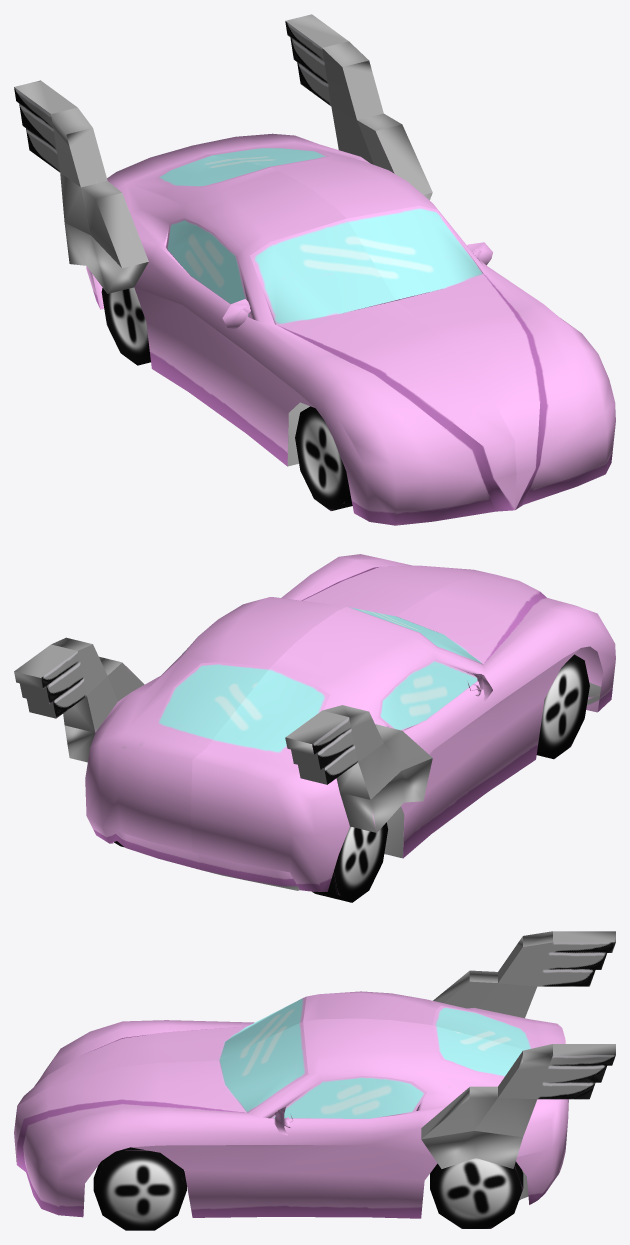
File: piper_colored.fbx
3 renders of one model, top to bottom at view 1: azimuth 30°, elevation 25°; view 2: azimuth 150°, elevation 25°; view 3: azimuth 270°, elevation 25°, orthographic. The views are drawn at different scales.
Parts seen in each view (by area): view 1: CarBody, frontright, backright; view 2: CarBody, frontright, backright; view 3: CarBody, frontleft, backleft.
Boxes of the visible parts, x1,y1,x2,y2 form: CarBody: (14, 14, 615, 525); frontright: (295, 406, 352, 510); backright: (101, 287, 150, 365); CarBody: (14, 554, 615, 891); frontright: (536, 654, 589, 759); backright: (312, 822, 388, 902); CarBody: (14, 931, 615, 1218); frontleft: (93, 1147, 186, 1230); backleft: (430, 1158, 523, 1228).
Size of the model in its own units: 12.58 by 8.35 by 24.28.
1 material, 1 textured.
